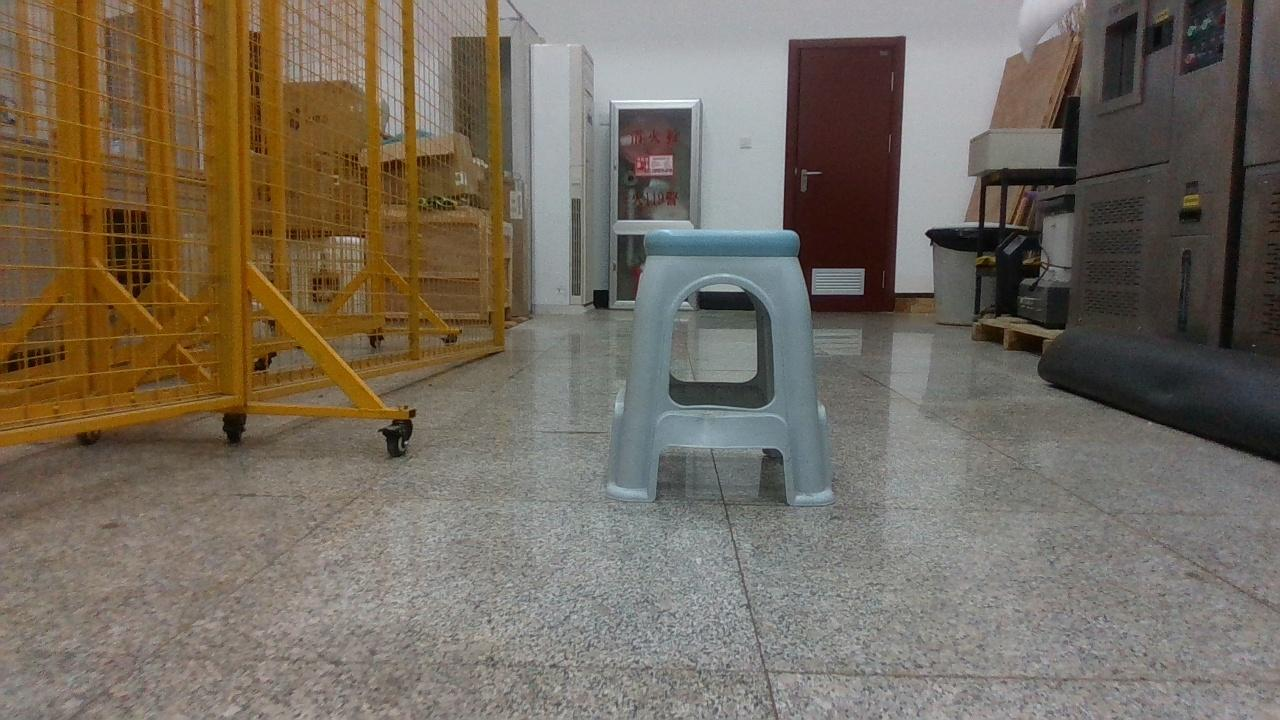stool: (608, 230, 835, 505)
